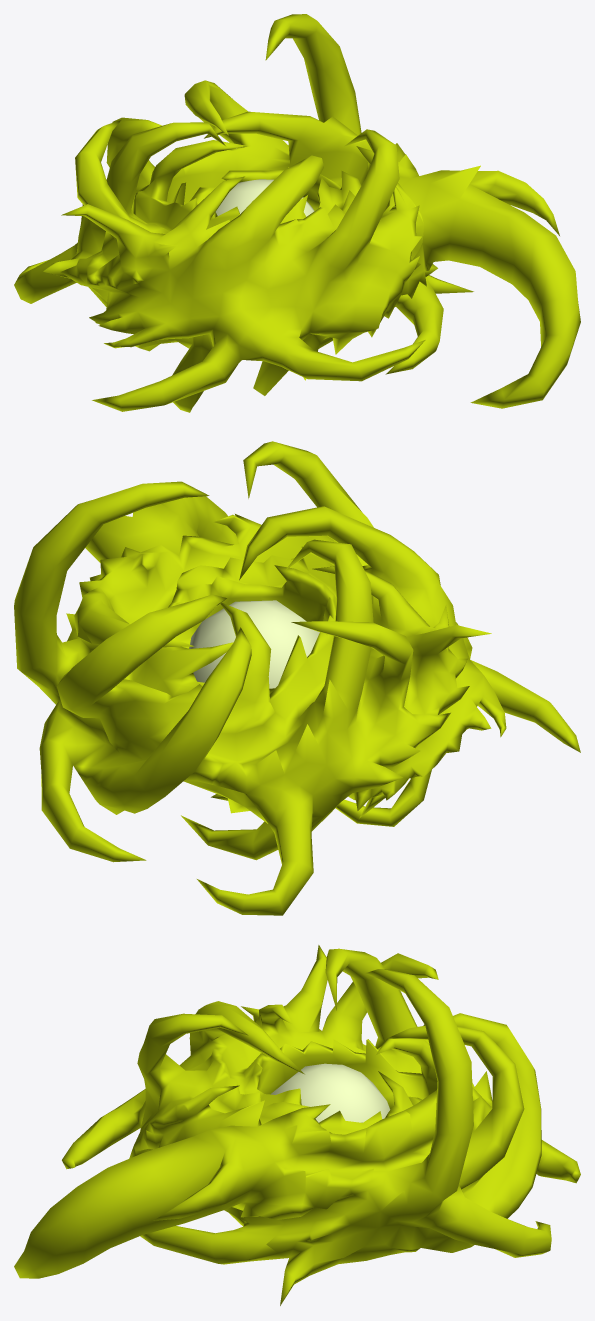
File: TheToxin.fbx
3 views of the same model, one above another, from view 1: azimuth 30°, elevation 25°; view 2: azimuth 150°, elevation 25°; view 3: azimuth 270°, elevation 25° (orthographic). The views are drawn at different scales.
Visible parts, largest first — view 1: polySurface66; view 2: polySurface66; view 3: polySurface66.
Part boxes in pixels (x1,y1,x2,y2): polySurface66: (14,14,580,412); polySurface66: (14,441,580,915); polySurface66: (14,945,580,1305).
Bounding box in the file's own units: 275 × 180 × 293.
